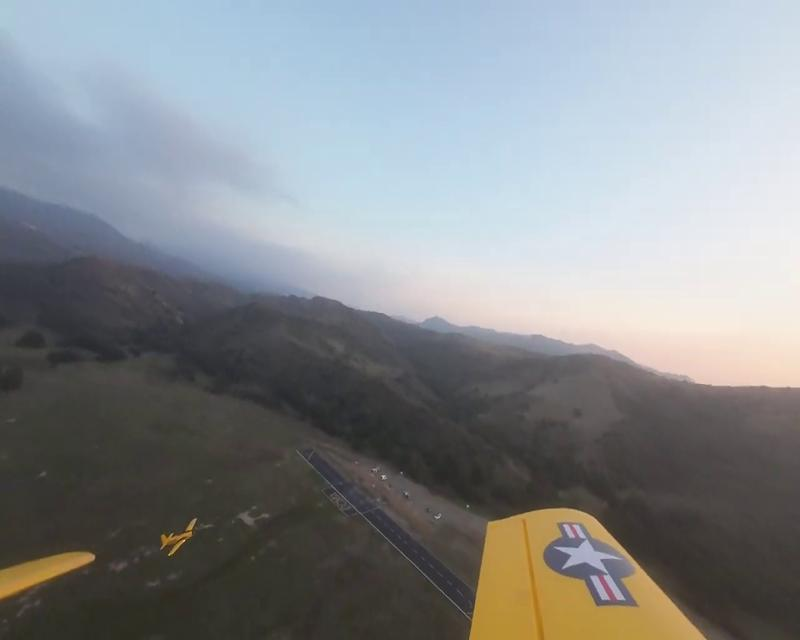UAV: (160, 517, 198, 557)
